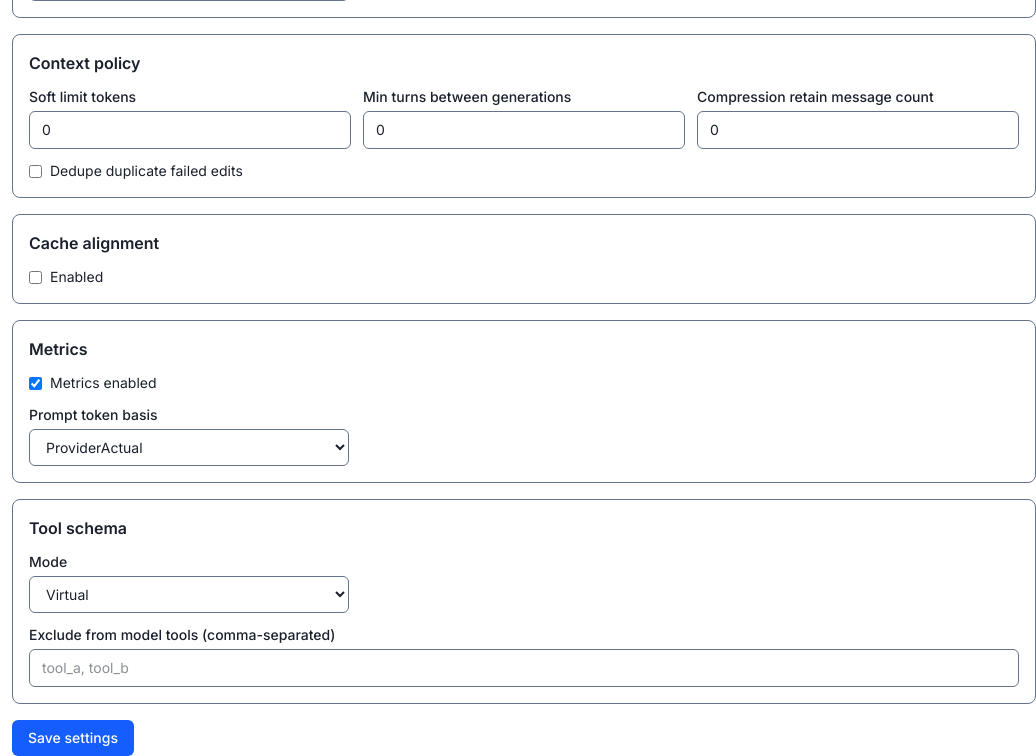
SettingsForm › surfaces 409 conflict with currentRevision
The image size is (1036, 756).
(page scrolled)
Step 1. Click the button "Save settings" → (73, 738), box [12,720,134,755]
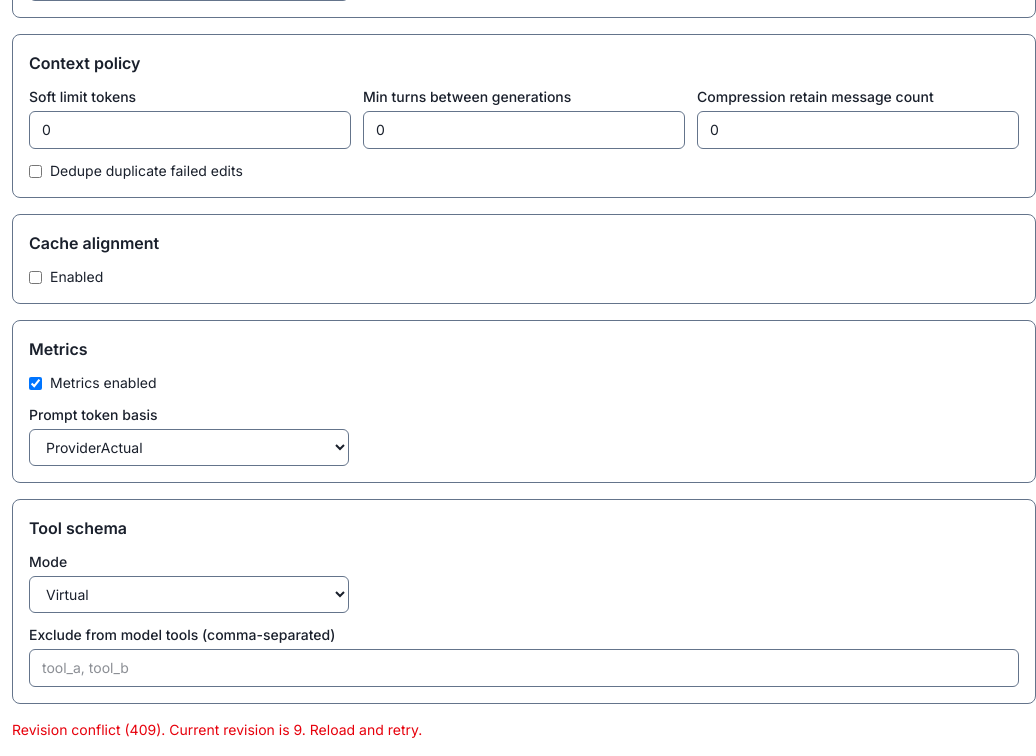
Now the message shows "Revision conflict (409)", box [12,721,422,738]
Now the message shows "9", box [12,721,422,738]
